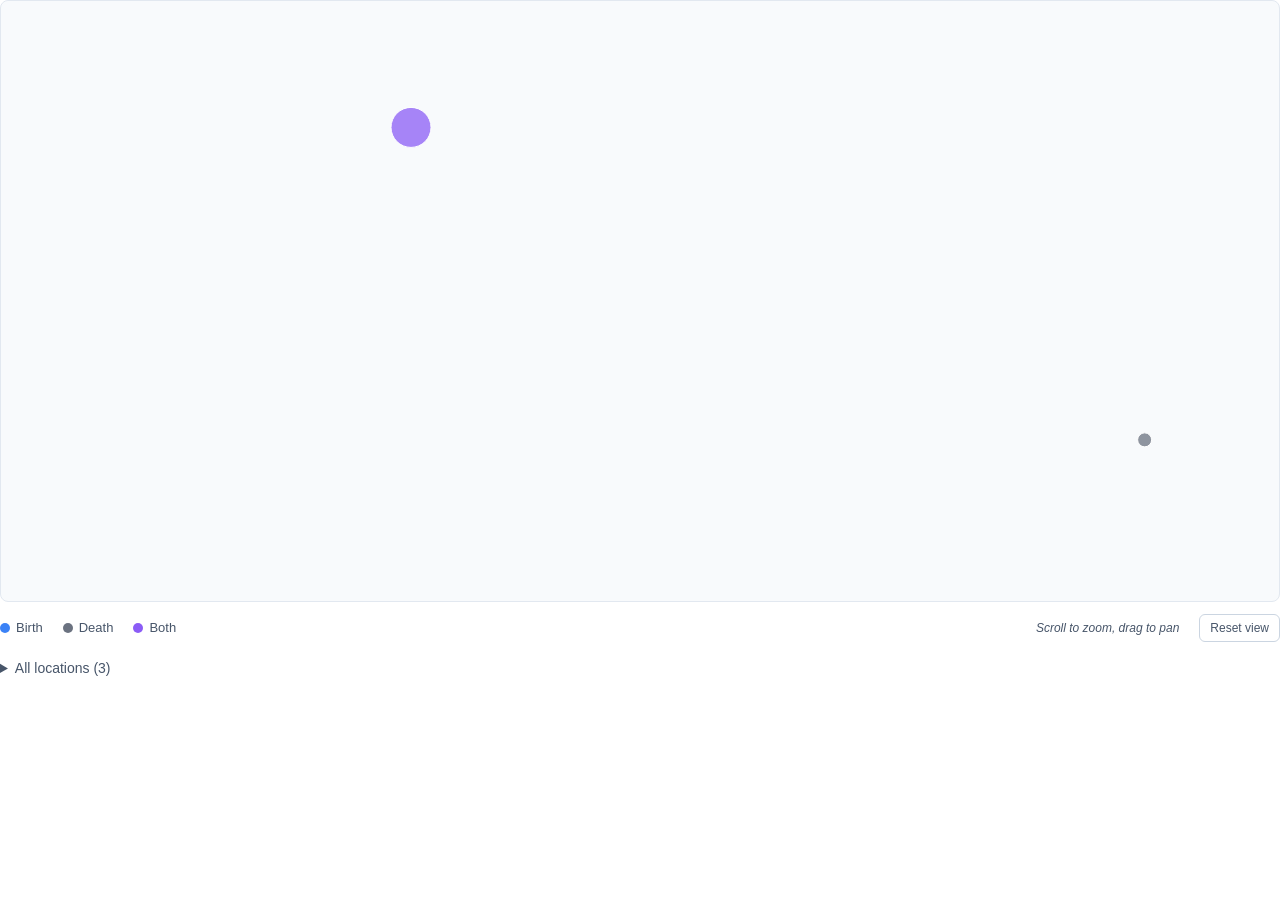
Test: GeographicMap › opens a panel naming each person at a marker from the keyboard
The image size is (1280, 900).
Press Enter in the button "Boston, MA: 2 births, 1 death", box [391,107,431,147]
(page scrolled)
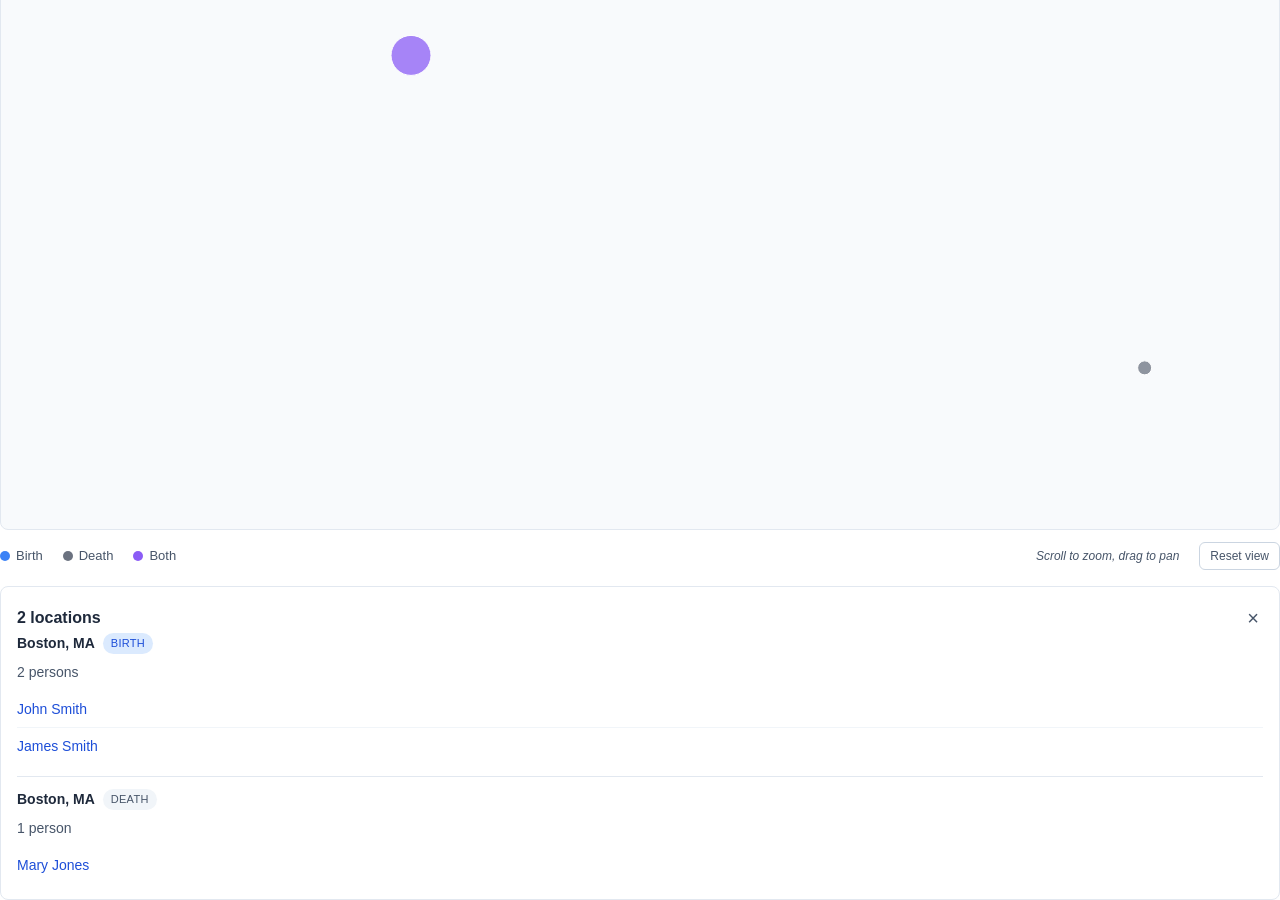
Click the button named "Close details": (1253, 618) [1243,603,1263,633]
(page scrolled)
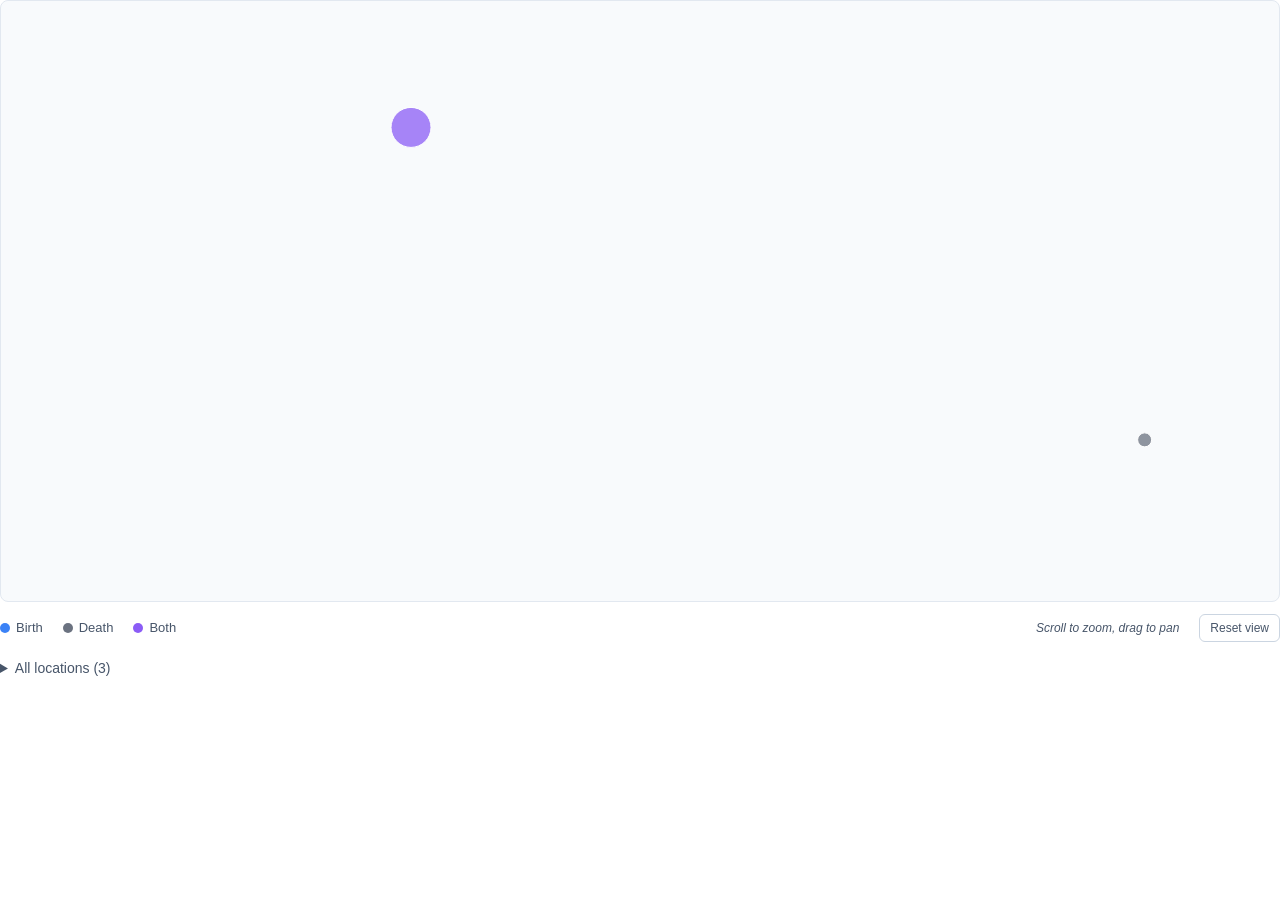
Expected: the heading "2 locations" is gone
